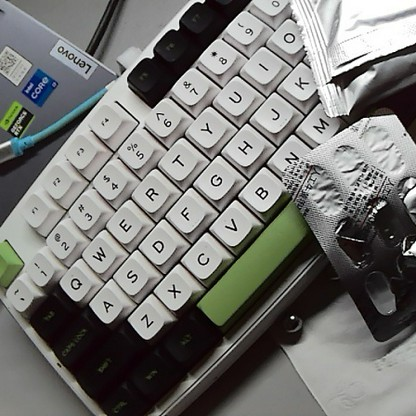ironball: (277, 308, 307, 343)
